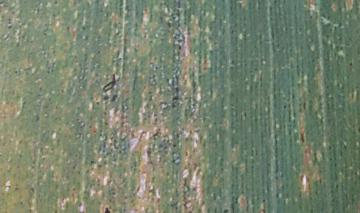tarspot: (169, 83, 184, 113), (110, 89, 124, 108), (98, 200, 115, 213), (99, 93, 110, 105), (220, 205, 233, 213)
